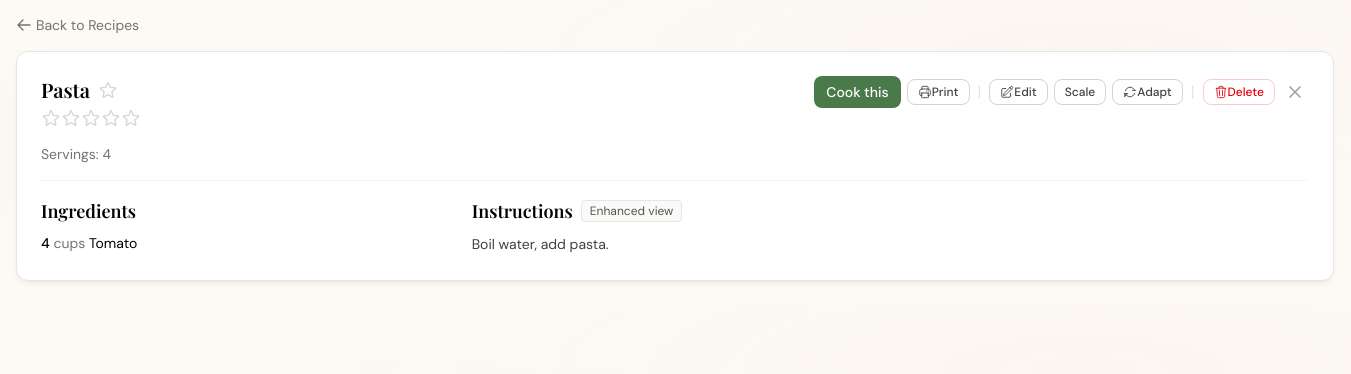
Scenario: RecipeDetailPage › cooking mode › "Cook this" button on the detail view enters cook mode
This screenshot has width=1351, height=374.
expect the heading "Pasta" is shown: met, box [41,76,90,104]
What coordinates should you click on to do the following:
click the button "Cook this"
I would click on:
 (858, 92)
Its box is [814,76,901,108].
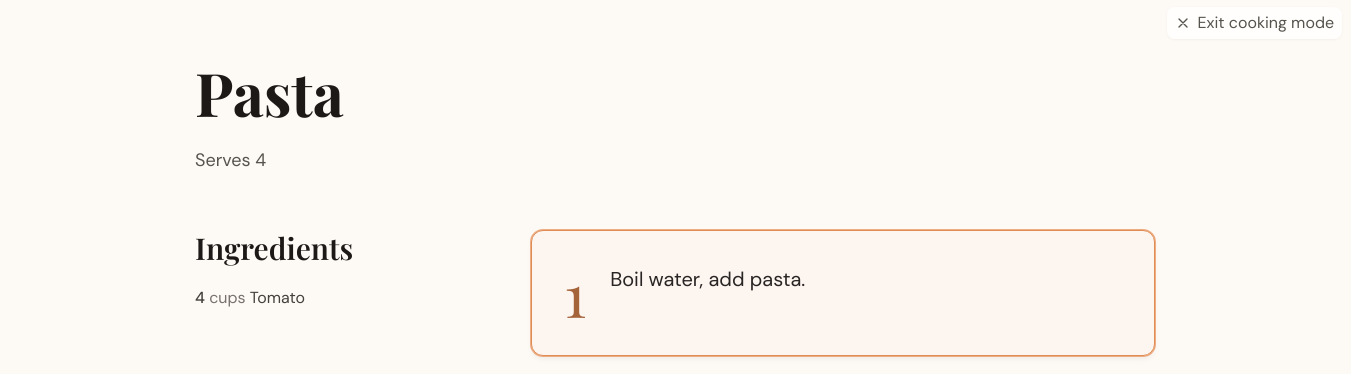
expect the heading "Pasta" is shown: met, box [195,52,344,132]
expect the button "Edit" is gone: met
